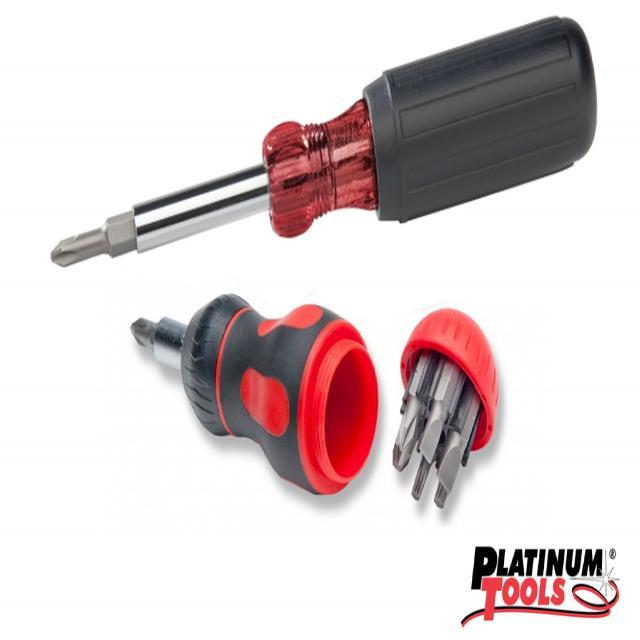screwdriver: (40, 12, 608, 281)
